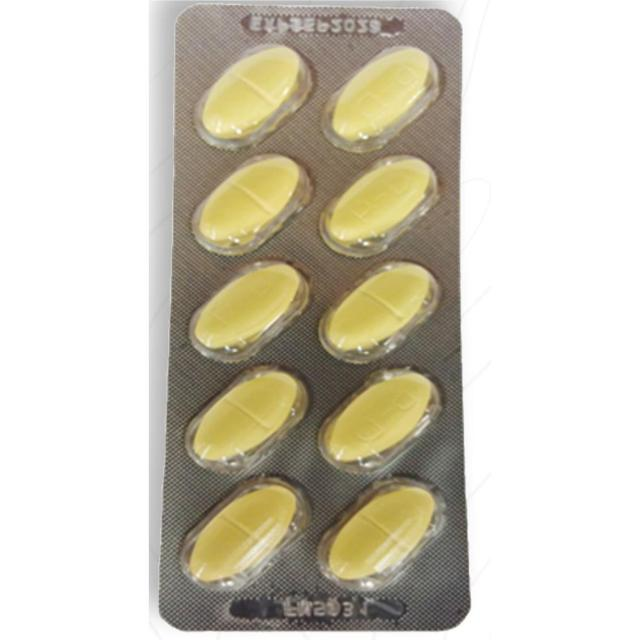blister: (152, 2, 474, 632)
